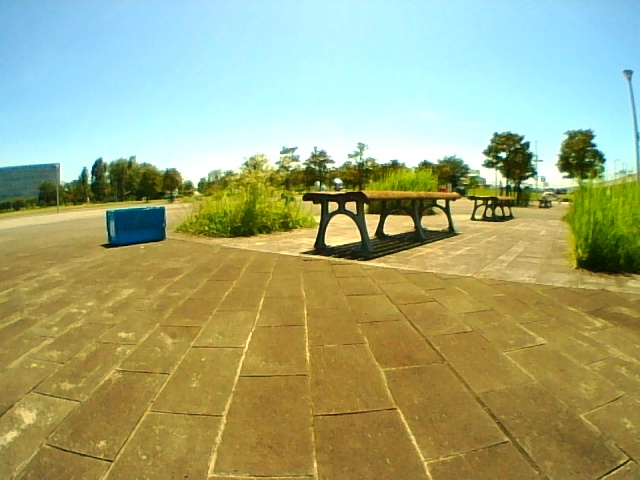blue_box: (107, 211, 164, 241)
tag: (109, 221, 115, 239)
